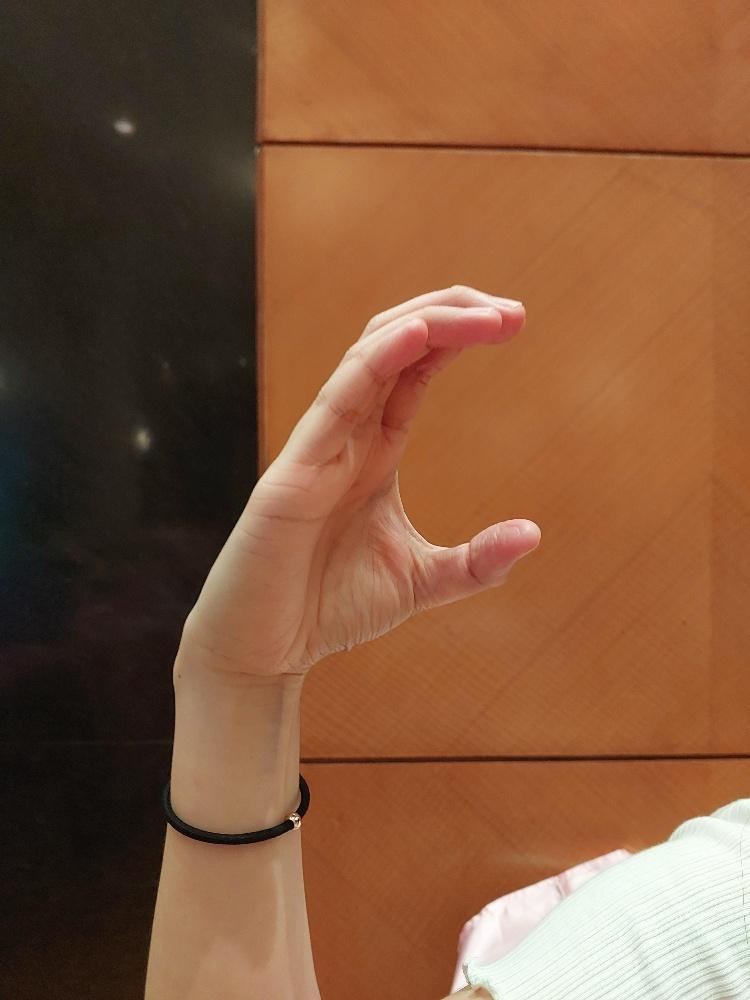c: (261, 281, 543, 674)
